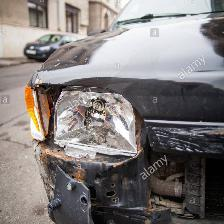head_lamp: (10, 64, 153, 200)
